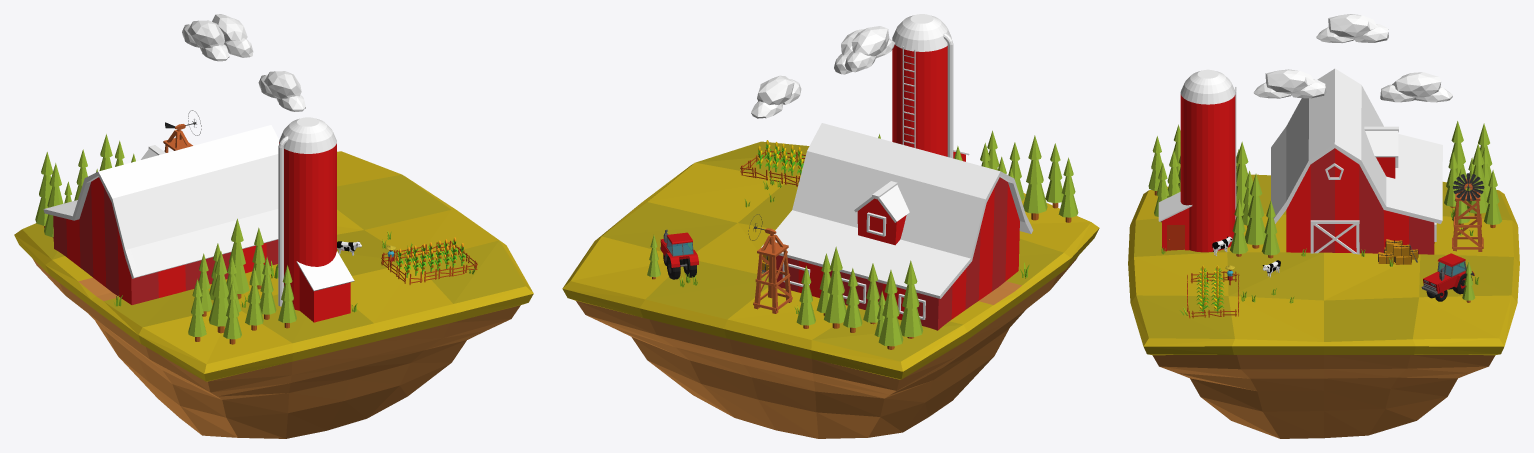
Rendered from farm-low-poly.obj.
The picture shows the model from 3 angles, left to right: view 1: azimuth 30°, elevation 25°; view 2: azimuth 150°, elevation 25°; view 3: azimuth 270°, elevation 25°; orthographic projection. The views are drawn at different scales.
Visible parts, largest first — view 1: Object_21, Object_20, Object_28, Object_17, Object_31, Object_32, Object_14, Object_10, Object_2, Object_13, Object_8, Object_3; view 2: Object_20, Object_28, Object_21, Object_17, Object_31, Object_32, Object_14, Object_2, Object_10, Object_18, Object_24, Object_13 (+1 smaller); view 3: Object_20, Object_21, Object_17, Object_28, Object_31, Object_32, Object_2, Object_14, Object_10, Object_18, Object_24, Object_22 (+5 smaller).
Part boxes in pixels (x1,y1,x2,y2): Object_21: (32, 258, 520, 438); Object_20: (14, 151, 533, 381); Object_28: (43, 125, 279, 278); Object_17: (22, 174, 525, 343); Object_31: (66, 142, 350, 322); Object_32: (35, 134, 296, 339); Object_14: (53, 182, 278, 304); Object_10: (278, 117, 354, 306); Object_2: (182, 14, 305, 111); Object_13: (381, 240, 477, 284); Object_8: (396, 241, 465, 277); Object_3: (397, 237, 464, 272); Object_20: (562, 162, 1099, 379); Object_28: (761, 46, 1033, 319); Object_21: (576, 257, 1077, 438); Object_17: (602, 141, 1063, 361); Object_31: (798, 44, 1019, 319); Object_32: (647, 130, 1078, 346); Object_14: (776, 177, 1007, 330); Object_2: (751, 26, 895, 118); Object_10: (892, 14, 969, 158); Object_18: (753, 228, 792, 313); Object_24: (660, 232, 698, 267); Object_13: (740, 149, 805, 186); Object_20: (1128, 186, 1519, 355); Object_21: (1152, 355, 1495, 438); Object_17: (1134, 174, 1513, 341); Object_28: (1235, 68, 1442, 254); Object_31: (1162, 94, 1409, 252); Object_32: (1148, 121, 1501, 300); Object_2: (1253, 14, 1452, 102); Object_14: (1310, 148, 1434, 254); Object_10: (1158, 69, 1235, 221); Object_18: (1452, 178, 1483, 251); Object_24: (1423, 253, 1474, 297); Object_22: (1378, 239, 1417, 264).
Bounding box in the file's own units: 205 × 206 × 199.
